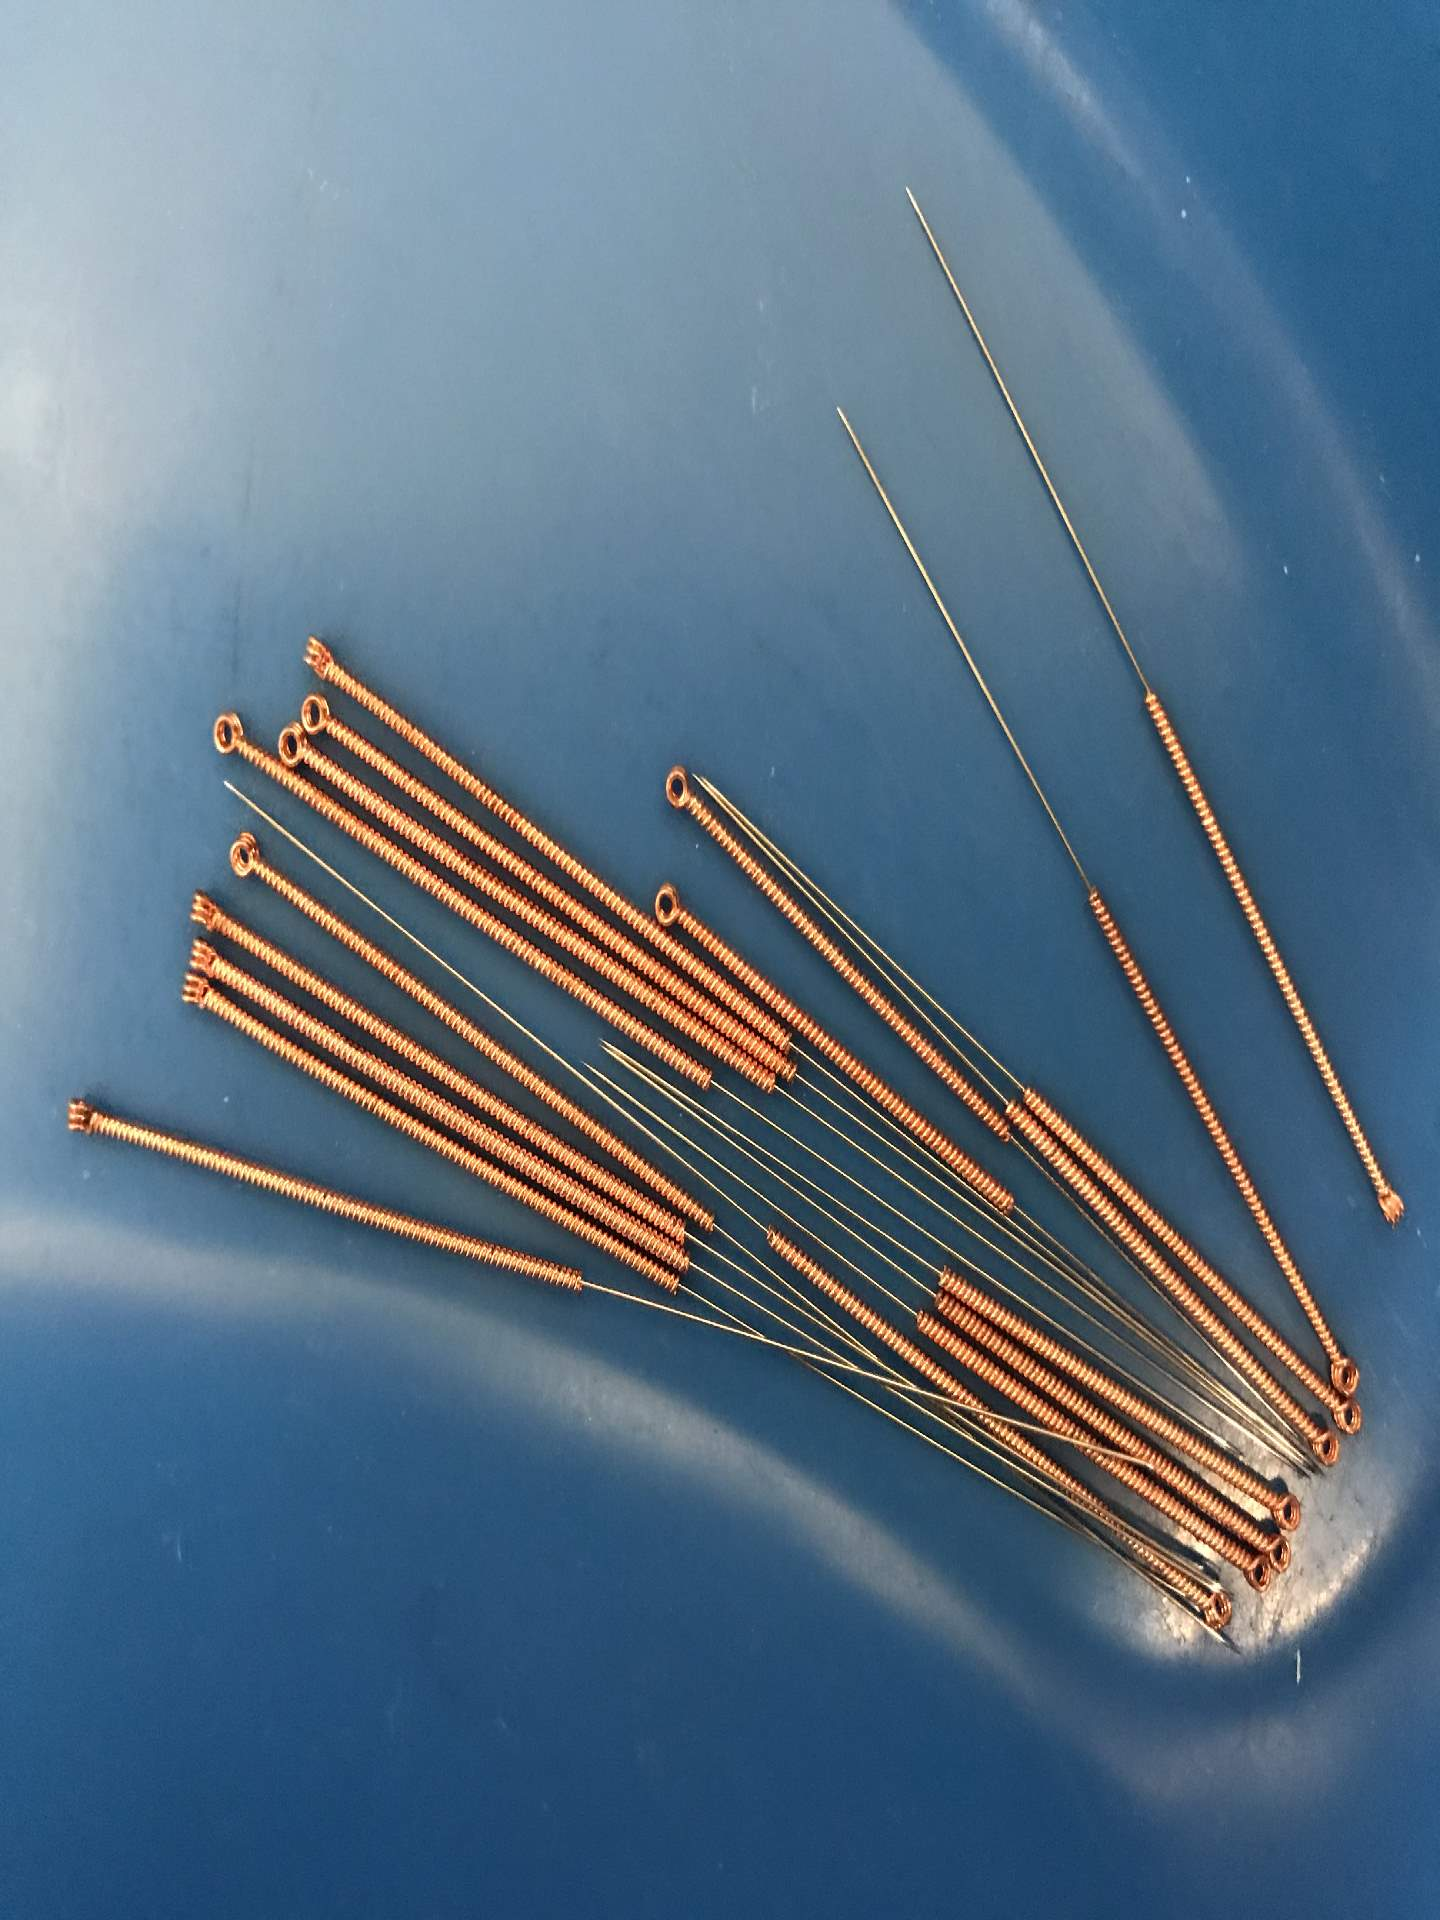needle: (213, 822, 275, 887), (51, 1084, 109, 1154), (1363, 1166, 1416, 1240), (201, 701, 254, 770), (652, 753, 705, 819), (293, 624, 346, 689), (295, 685, 346, 748), (1322, 1330, 1367, 1401), (1184, 1571, 1237, 1630), (1262, 1476, 1308, 1539), (1292, 1414, 1342, 1473), (175, 930, 228, 983), (647, 874, 694, 933), (178, 884, 230, 937), (169, 968, 222, 1017), (1322, 1388, 1370, 1438), (274, 718, 312, 776), (1237, 1551, 1277, 1593), (1266, 1531, 1299, 1578)
